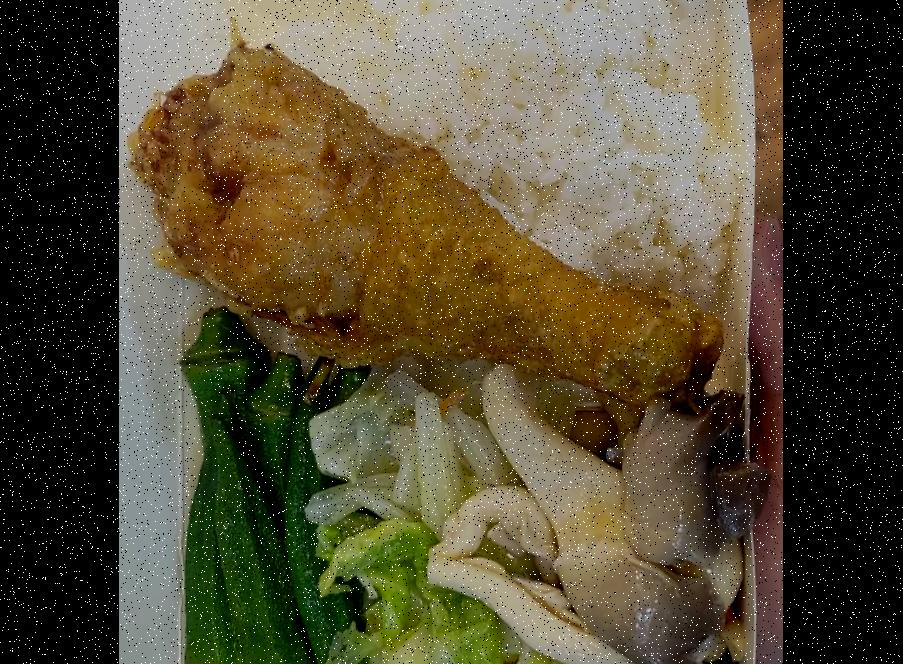big grilled chicken leg: (172, 0, 766, 664)
big herbal chicken leg: (234, 0, 738, 380)
braised fish fillet: (421, 368, 751, 664), (177, 308, 383, 664), (331, 373, 580, 664)
braised pork: (134, 40, 724, 408)
